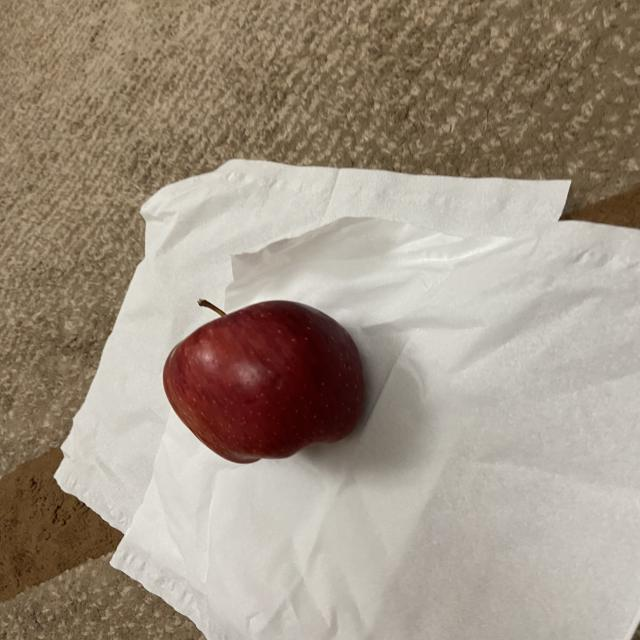apple: (158, 287, 379, 470)
